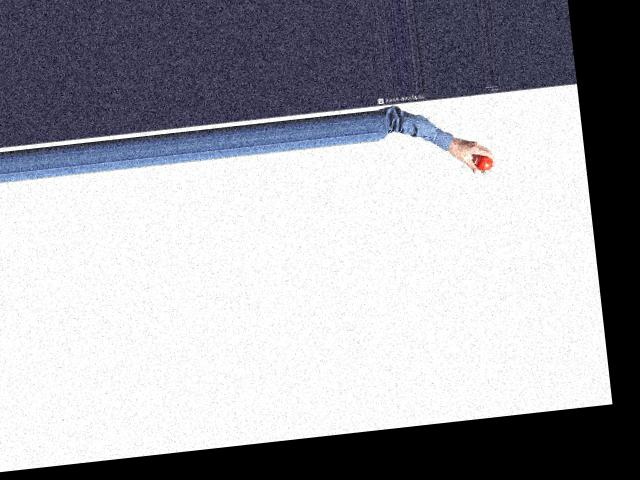tomato: (475, 155, 494, 170)
